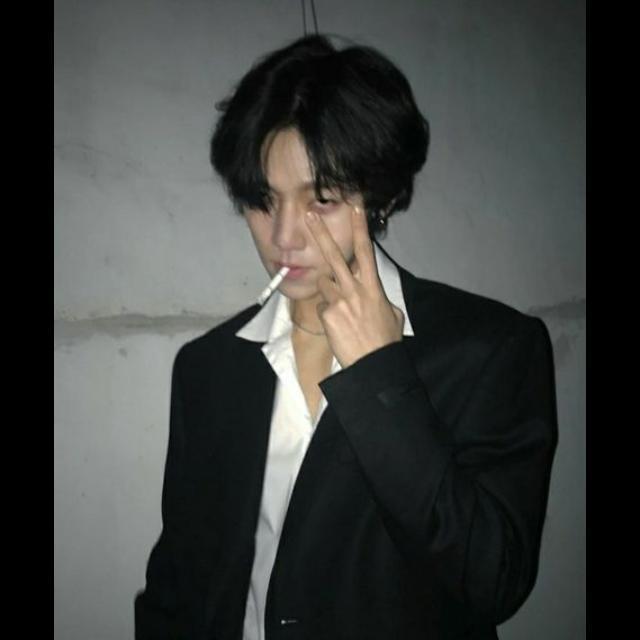rokok: (256, 262, 292, 306)
